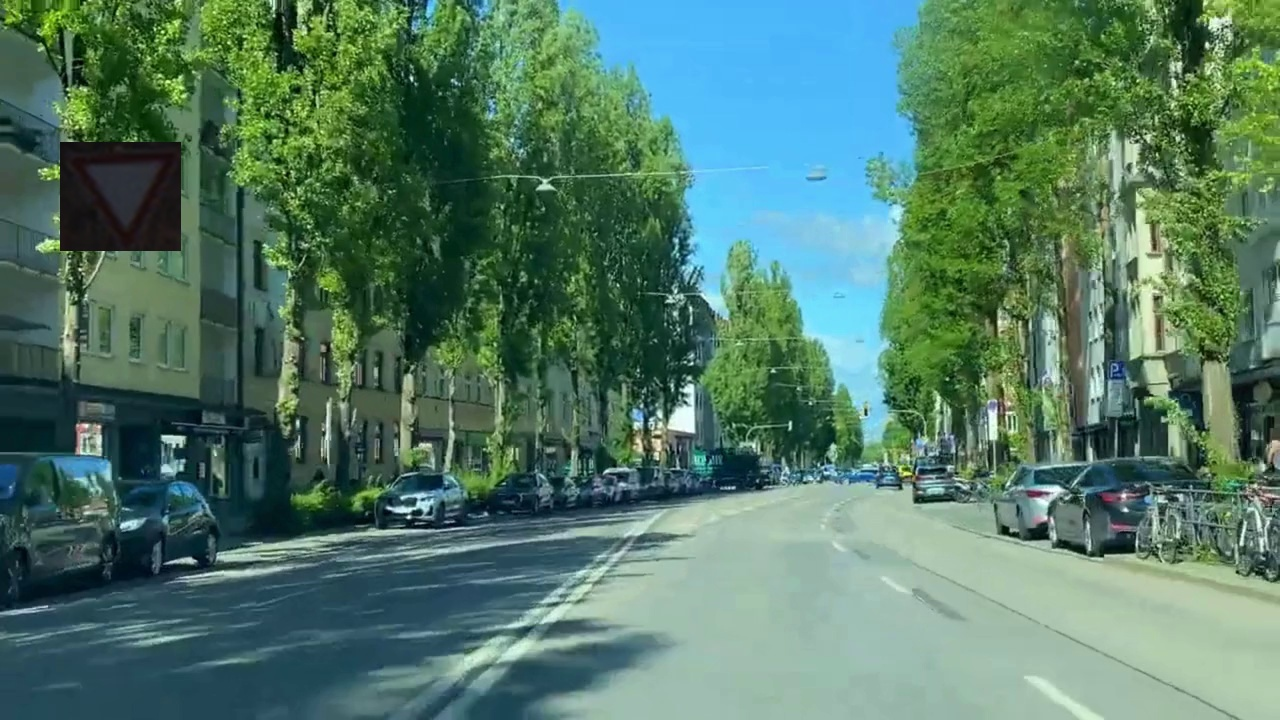Yield: (60, 142, 181, 251)
